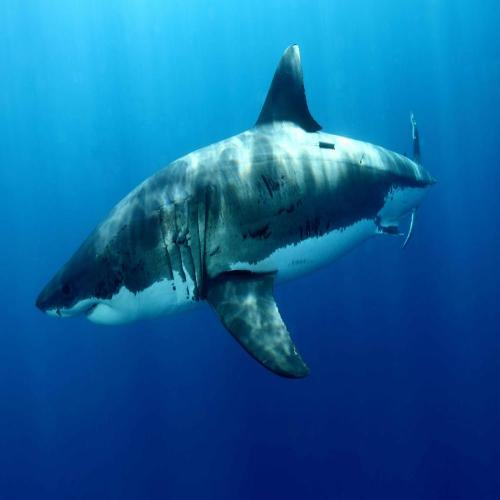shark-endangered: (23, 115, 428, 334)
